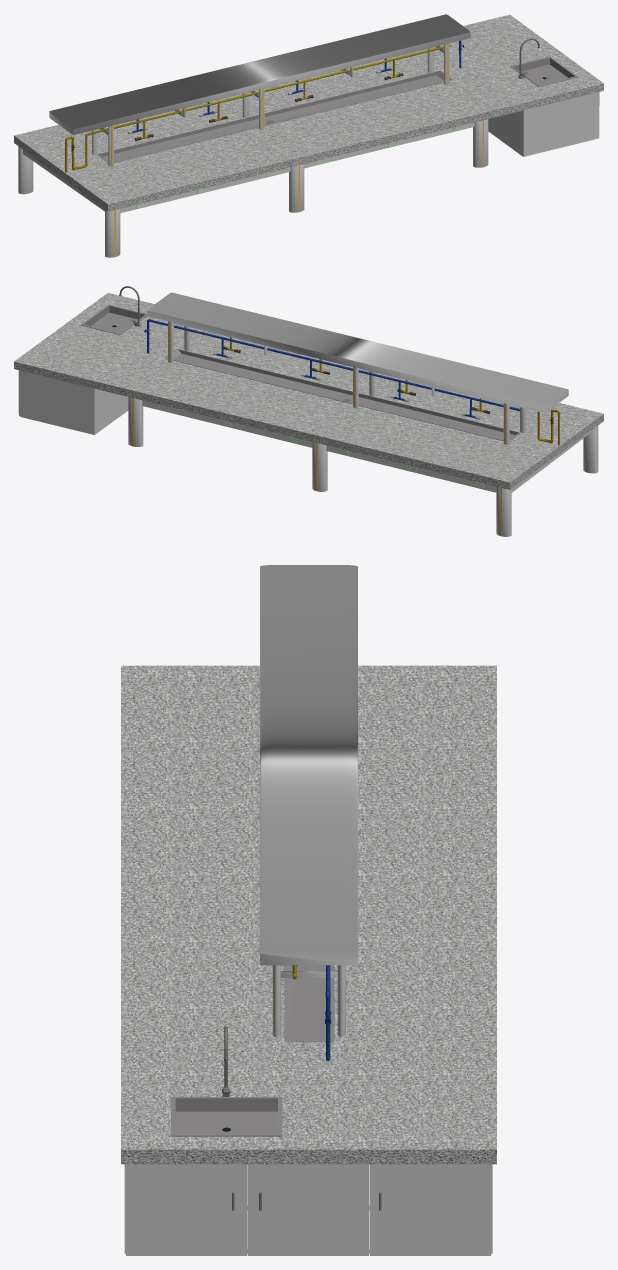
Rendered from Mesa 1.fbx.
The picture shows the model from 3 angles, top to bottom: view 1: azimuth 30°, elevation 25°; view 2: azimuth 150°, elevation 25°; view 3: azimuth 270°, elevation 25°; orthographic projection. The views are drawn at different scales.
Parts seen in each view (by area): view 1: Mesa, repisa, Soporte, Cajon, Canaleta, Tuberia, Lavamanos; view 2: Mesa, repisa, Soporte, Cajon, Canaleta, Tuberia.001, Lavamanos, Tuberia; view 3: Mesa, repisa, Puerta2, Puerta1, Puerta3, Lavamanos, Canaleta.
Part boxes in pixels (<box>): Mesa: <box>14,14,603,211</box>; repisa: <box>49,14,470,166</box>; Soporte: <box>18,119,488,257</box>; Cajon: <box>488,92,597,156</box>; Canaleta: <box>97,70,452,162</box>; Tuberia: <box>65,44,451,172</box>; Lavamanos: <box>511,56,577,86</box>; Mesa: <box>14,293,603,489</box>; repisa: <box>147,292,568,444</box>; Soporte: <box>128,397,598,536</box>; Cajon: <box>21,371,128,434</box>; Canaleta: <box>165,349,520,441</box>; Tuberia.001: <box>147,319,520,417</box>; Lavamanos: <box>81,305,147,334</box>; Tuberia: <box>227,337,560,445</box>; Mesa: <box>121,665,496,1164</box>; repisa: <box>260,565,357,1036</box>; Puerta2: <box>247,1164,368,1255</box>; Puerta1: <box>126,1164,246,1255</box>; Puerta3: <box>370,1164,490,1255</box>; Lavamanos: <box>171,1097,282,1136</box>; Canaleta: <box>284,965,334,1041</box>.
Size of the model in its own units: 700 by 144 by 230.
18 materials, 1 textured.
